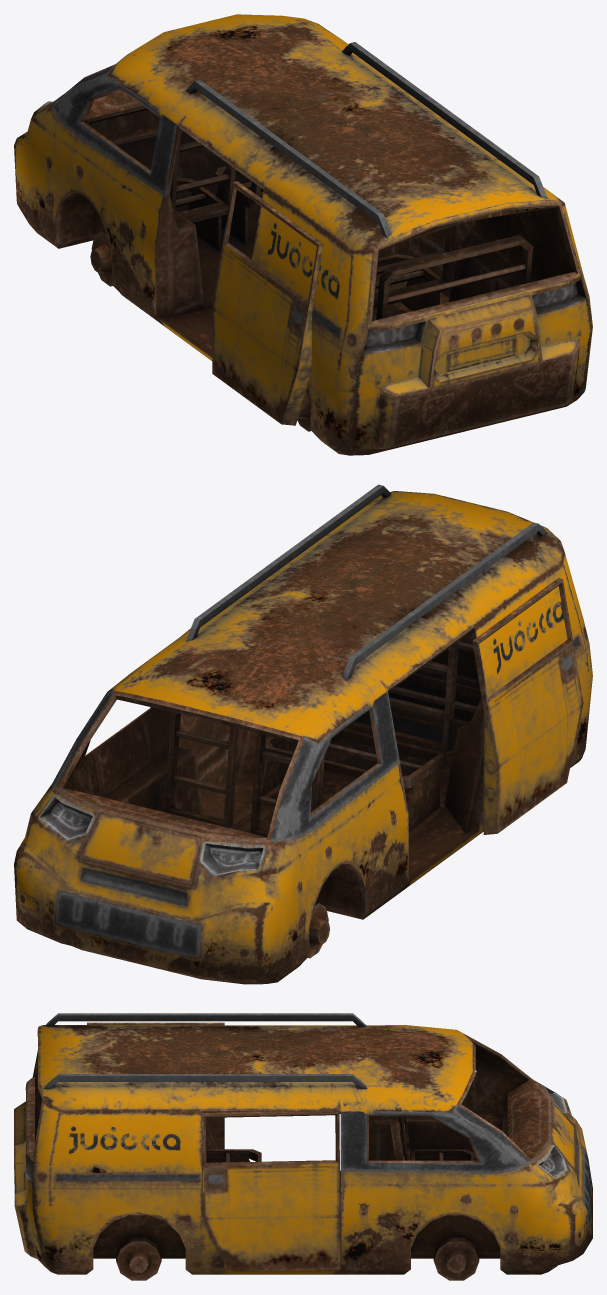
Rendered from vanshell.FBX.
3 views of the same model, one above another, from view 1: azimuth 30°, elevation 25°; view 2: azimuth 150°, elevation 25°; view 3: azimuth 270°, elevation 25° (orthographic). The views are drawn at different scales.
Visible parts, largest first — view 1: Object001; view 2: Object001; view 3: Object001.
Boxes of the visible parts, x1=… form: Object001: x1=14, y1=14, x2=592, y2=455; Object001: x1=14, y1=484, x2=592, y2=984; Object001: x1=14, y1=1013, x2=592, y2=1280.
Bounding box in the file's own units: 122 × 103 × 277.
